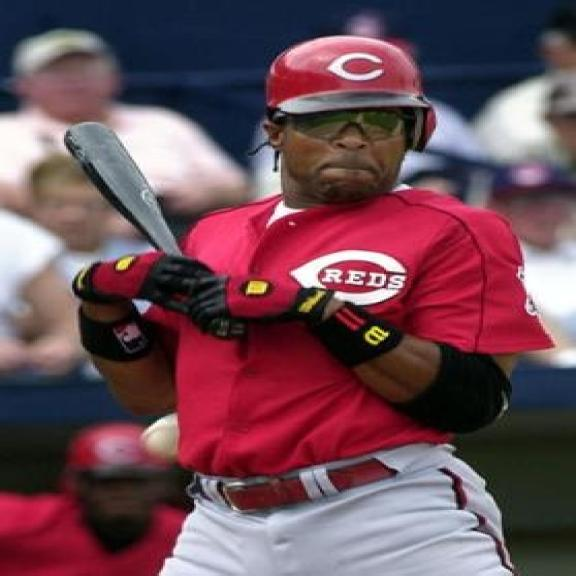face: (253, 105, 409, 203), (21, 58, 124, 120), (36, 172, 113, 254), (511, 195, 570, 251)
